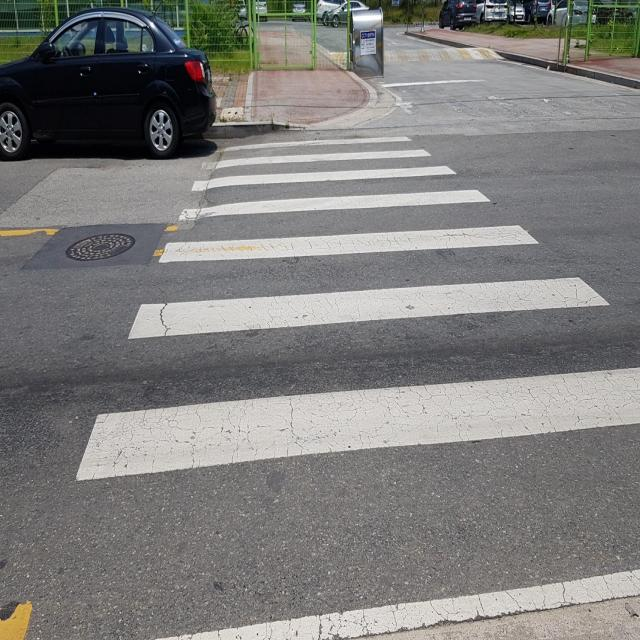횡단보도: (69, 124, 640, 640)
